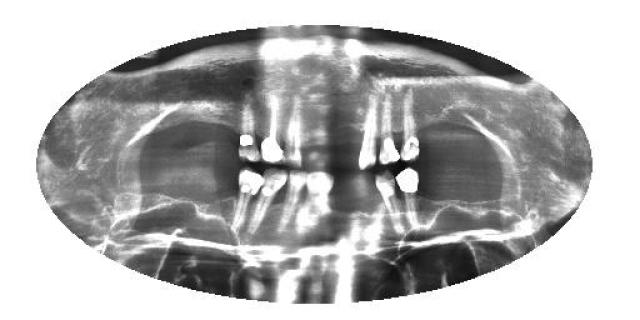Fillings: (230, 168, 266, 232), (400, 82, 421, 162), (378, 98, 400, 168), (396, 166, 422, 224), (239, 99, 261, 162)
Implant: (261, 101, 284, 164)
